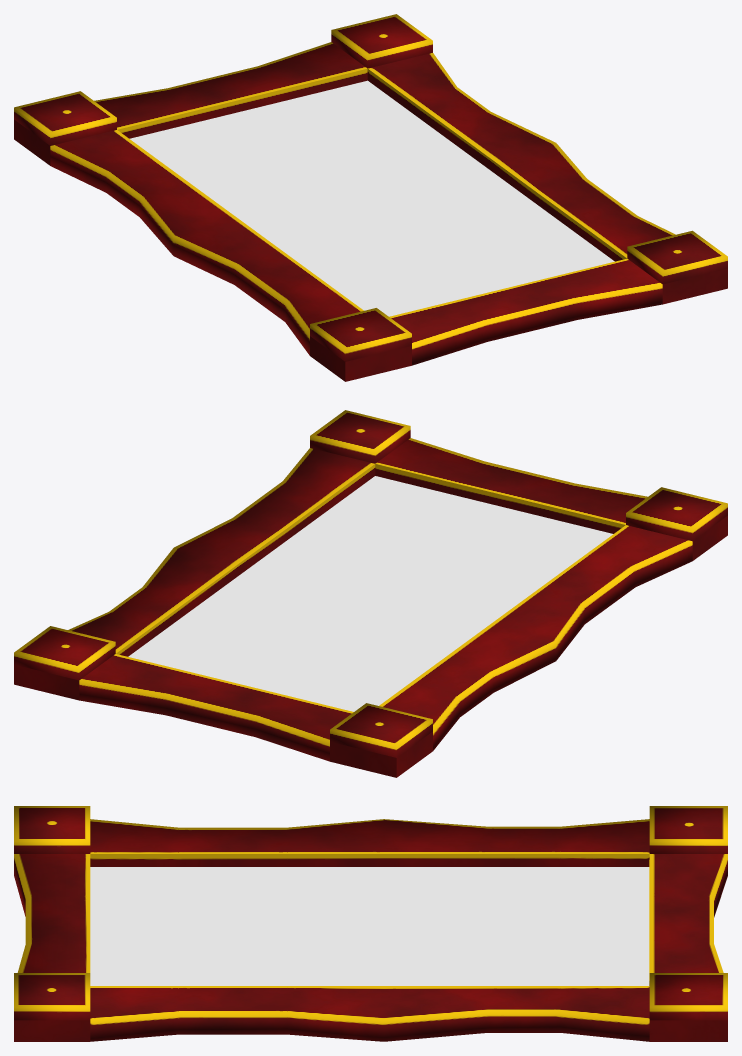
Rendered from Painting Model01.FBX.
The picture shows the model from 3 angles, top to bottom: view 1: azimuth 30°, elevation 25°; view 2: azimuth 150°, elevation 25°; view 3: azimuth 270°, elevation 25°; orthographic projection. The views are drawn at different scales.
Visible parts, largest first — view 1: Painting; view 2: Painting; view 3: Painting.
Part boxes in pixels (<box>): Painting: <box>14,14,727,381</box>; Painting: <box>14,410,727,777</box>; Painting: <box>14,806,727,1041</box>.
Size of the model in its own units: 73.12 by 5.85 by 110.
Materials: 1 (1 with a texture image).
